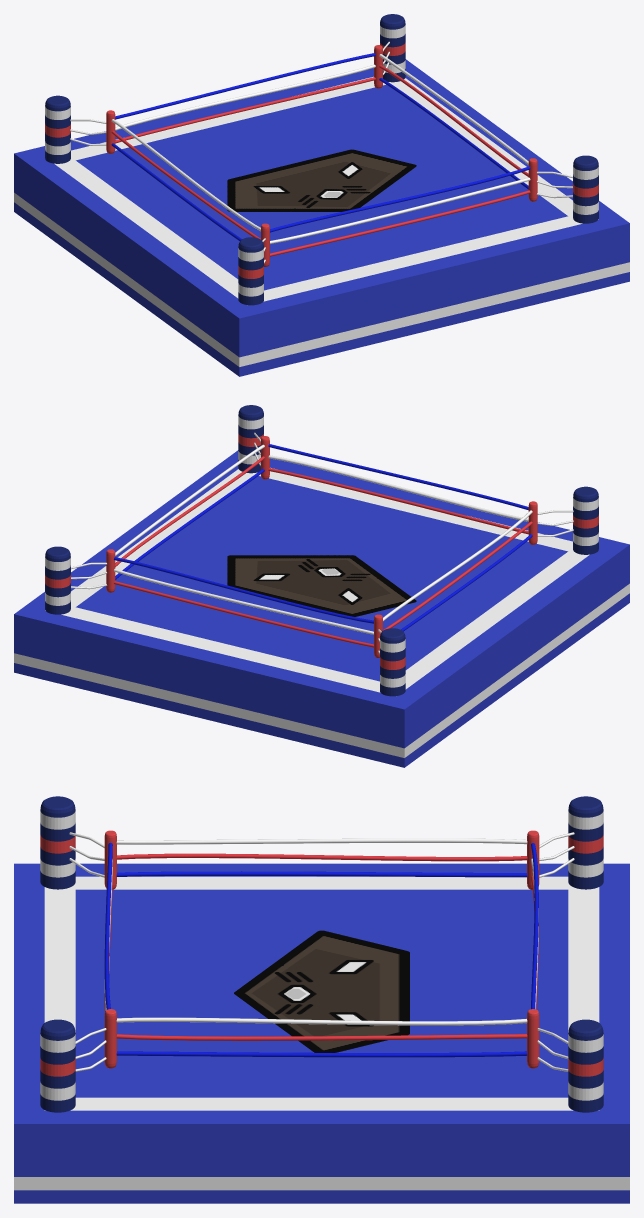
The model's file is ring.fbx.
3 views of the same model, one above another, from view 1: azimuth 30°, elevation 25°; view 2: azimuth 150°, elevation 25°; view 3: azimuth 270°, elevation 25° (orthographic). The views are drawn at different scales.
Parts seen in each view (by area): view 1: Ring, Sogas, Soportes; view 2: Ring, Sogas, Soportes; view 3: Ring, Soportes, Sogas.
Part boxes in pixels (box(x1,y1,x2,y2)): Ring: box(14, 59, 629, 376); Sogas: box(111, 53, 530, 256); Soportes: box(45, 14, 598, 305); Ring: box(14, 450, 629, 767); Sogas: box(113, 444, 532, 647); Soportes: box(45, 405, 598, 696); Ring: box(14, 863, 629, 1203); Soportes: box(40, 796, 603, 1112); Sogas: box(104, 838, 538, 1057).
Size of the model in its own units: 1400 by 400 by 1400.
